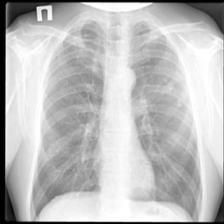tuberculosis: (27, 13, 205, 222)
